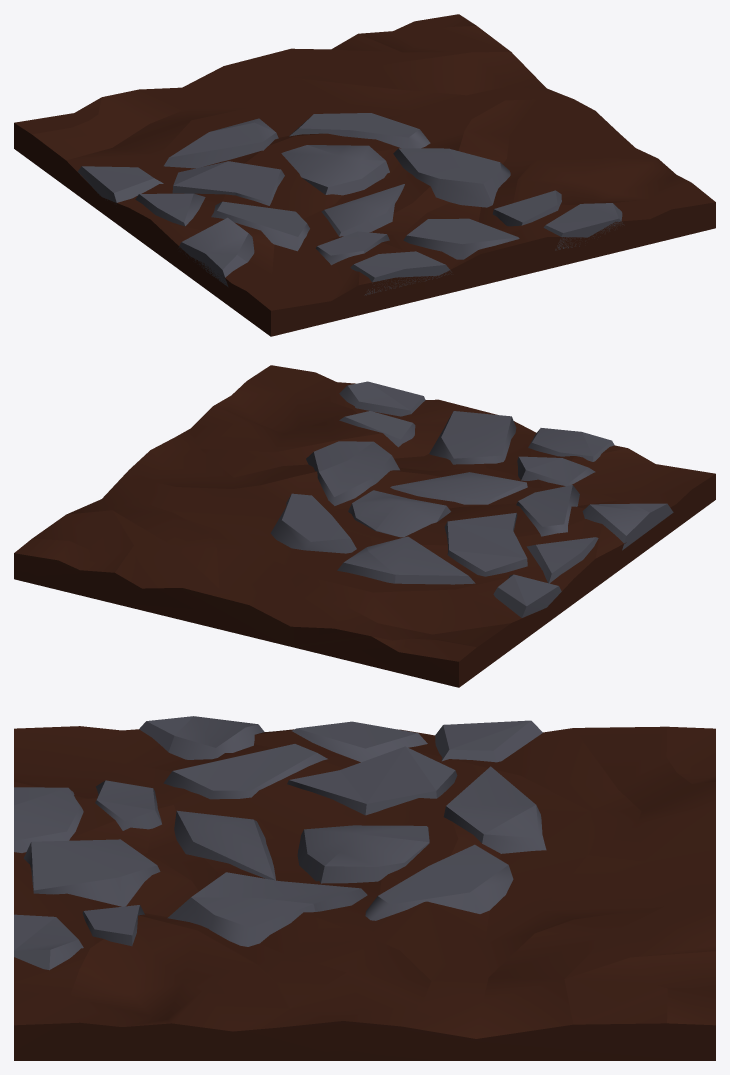
File: Ground_Stone_Path_Turn_RU.fbx
3 renders of one model, top to bottom at view 1: azimuth 30°, elevation 25°; view 2: azimuth 150°, elevation 25°; view 3: azimuth 270°, elevation 25°, orthographic. The views are drawn at different scales.
Visible parts, largest first — view 1: Ground_Stone_Path_Turn_RU; view 2: Ground_Stone_Path_Turn_RU; view 3: Ground_Stone_Path_Turn_RU.
Boxes of the visible parts, left/top/right/bottom form: Ground_Stone_Path_Turn_RU: left=14, top=14, right=715, bottom=336; Ground_Stone_Path_Turn_RU: left=14, top=365, right=715, bottom=687; Ground_Stone_Path_Turn_RU: left=14, top=716, right=715, bottom=1060.
Bounding box in the file's own units: 147 × 14.83 × 147.
